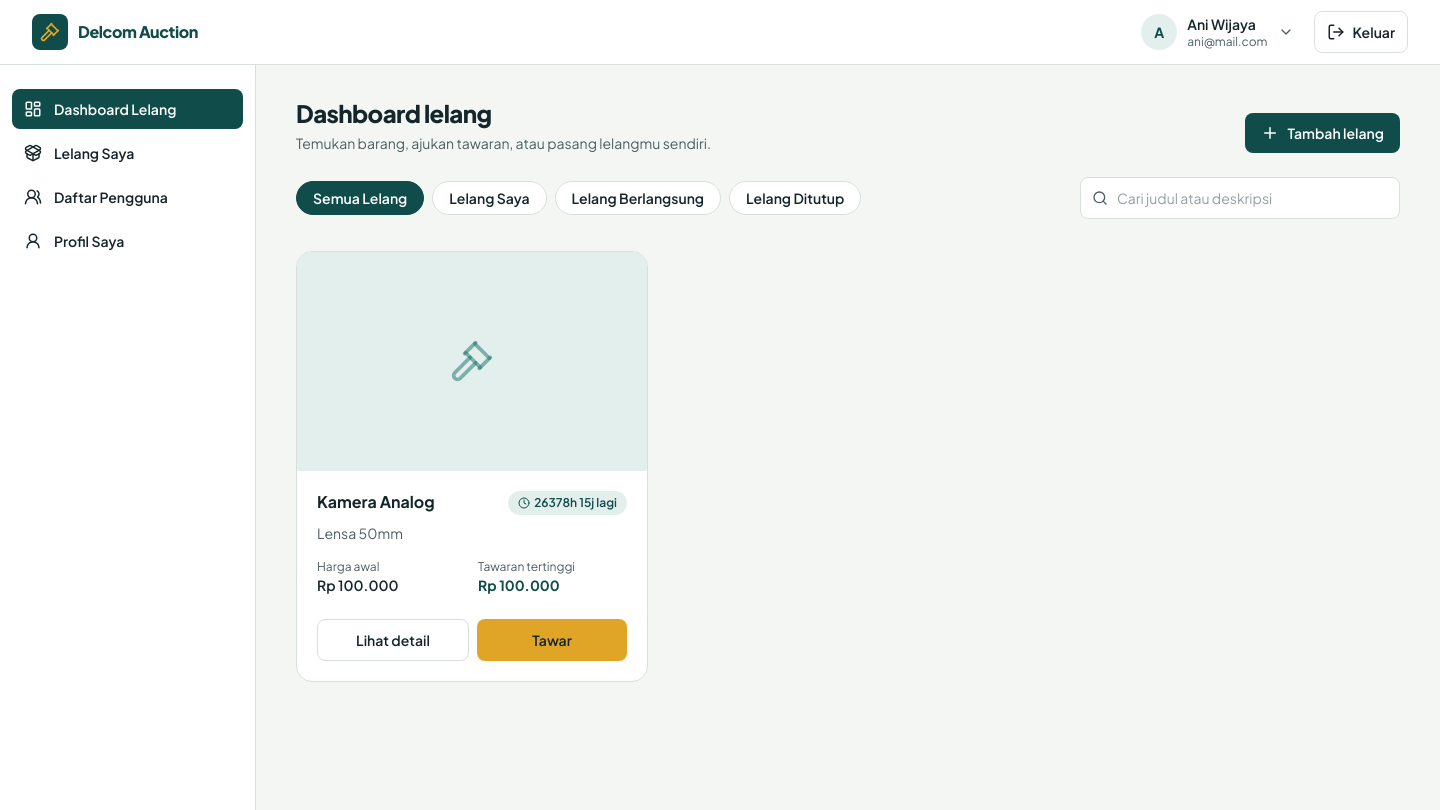
Test: App (integrasi) › pengguna login menjelajah dashboard -> detail -> pengguna -> profil
Expected: the heading "Kamera Analog" is shown, [317,491,435,513]
Click the link "Lihat detail" at (393, 640), box [317,619,469,661]
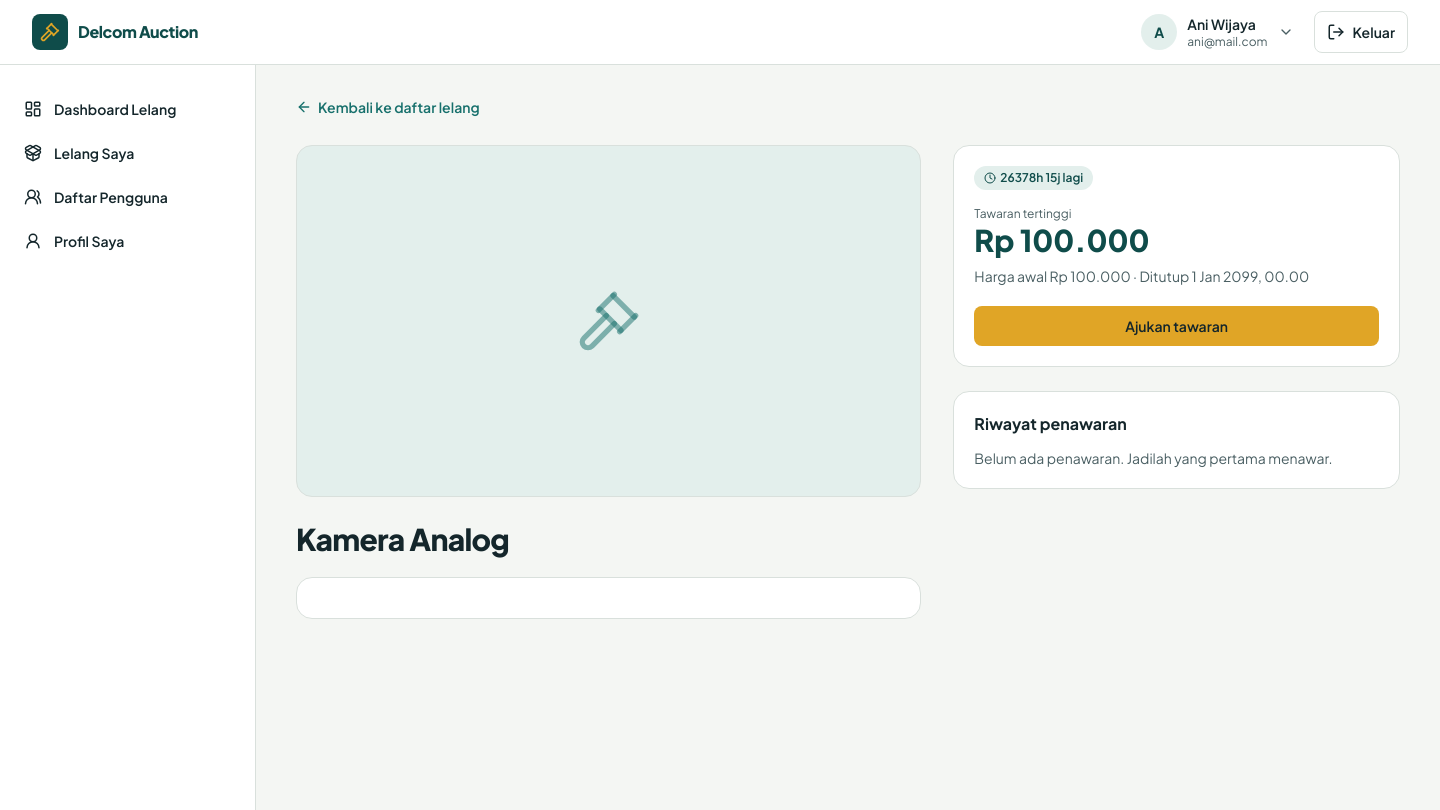
Expected: the heading "Kamera Analog" is shown, [296,520,509,558]
Click the link "Daftar Pengguna" at (96, 197), box [24,188,168,206]
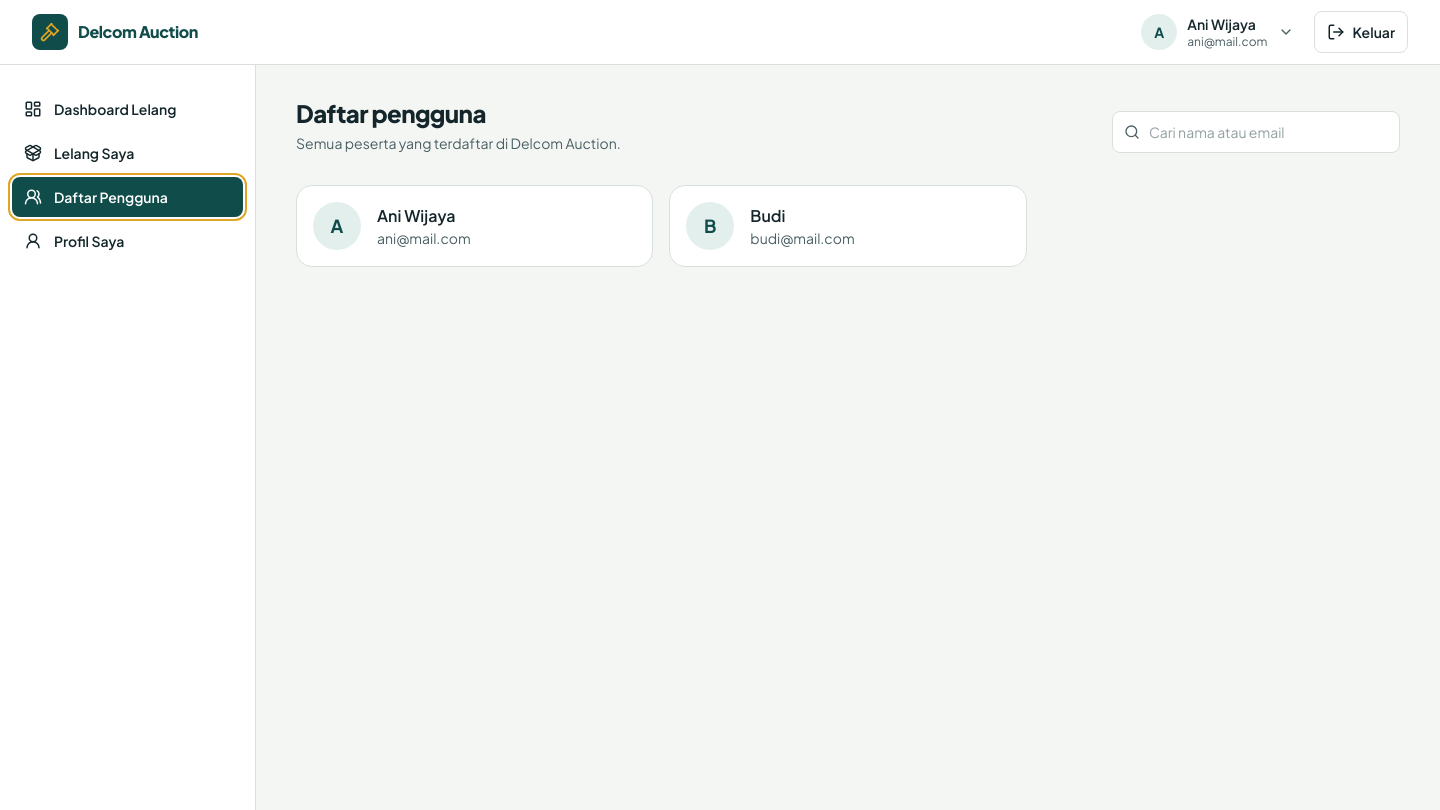
Expected: the text "budi@mail.com" is shown, [750,228,855,248]
Click the link "Profil Saya" at (74, 241), box [24,232,124,250]
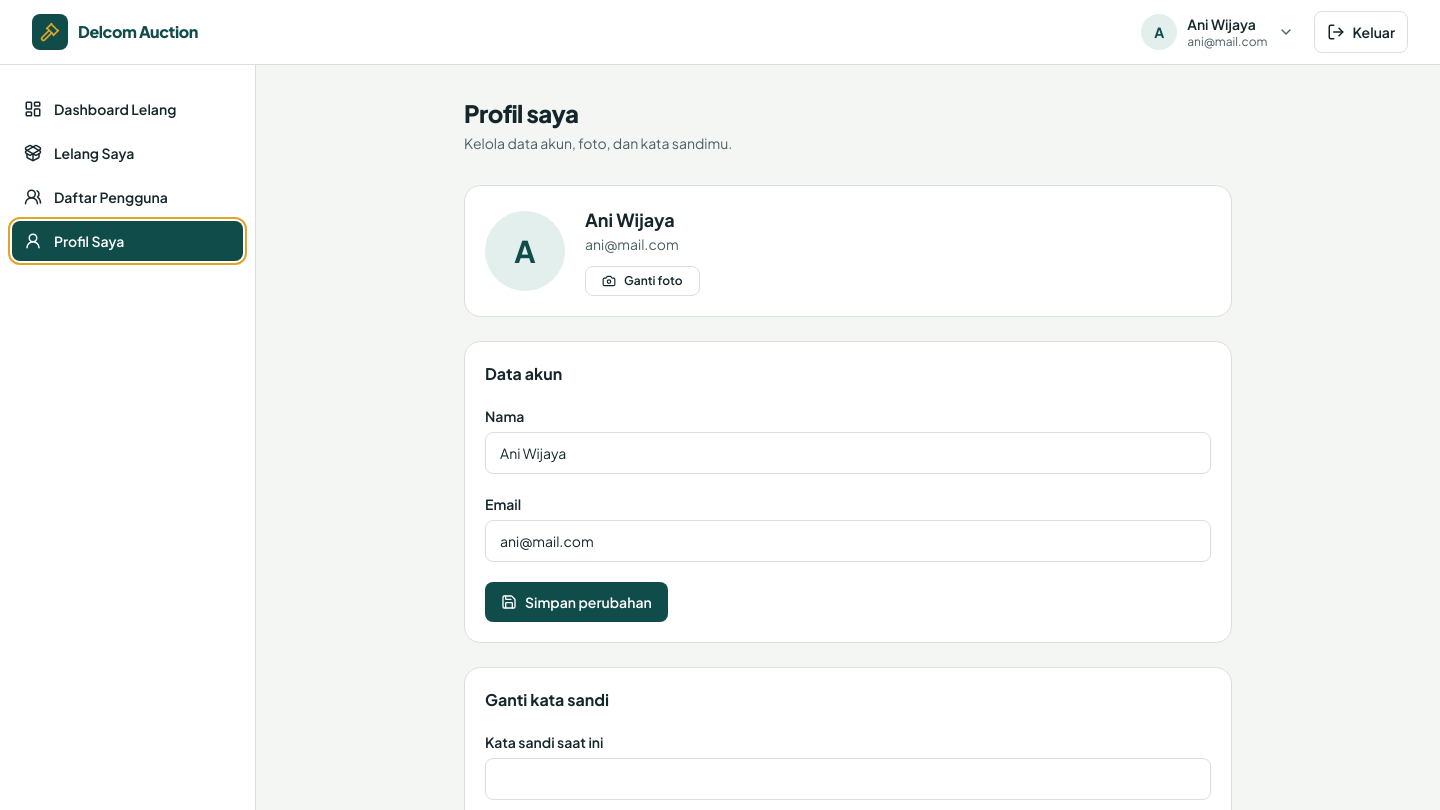
Expected: the heading "Profil saya" is shown, [464,98,578,128]
